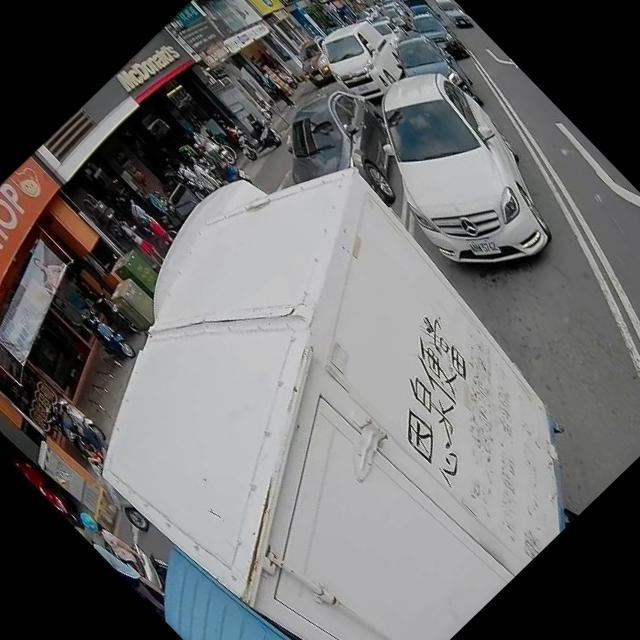person: (72, 500, 173, 604), (54, 407, 114, 468), (119, 192, 177, 252), (110, 210, 168, 268), (186, 124, 234, 172), (110, 192, 157, 240), (181, 151, 223, 194), (256, 68, 296, 109), (171, 160, 212, 200)
